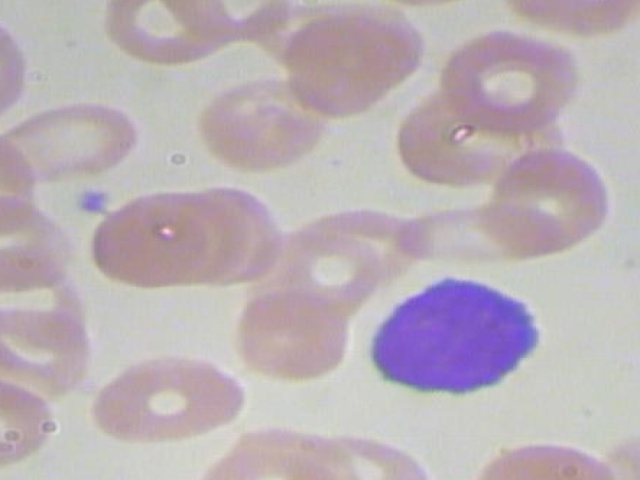Platelets: (69, 183, 119, 220)
RBC: (270, 2, 435, 129), (435, 24, 606, 138), (176, 75, 346, 174), (81, 350, 250, 449), (478, 141, 614, 257), (78, 183, 222, 292), (221, 277, 365, 386), (0, 299, 99, 395), (0, 370, 77, 466)
WBC: (363, 261, 555, 402)
